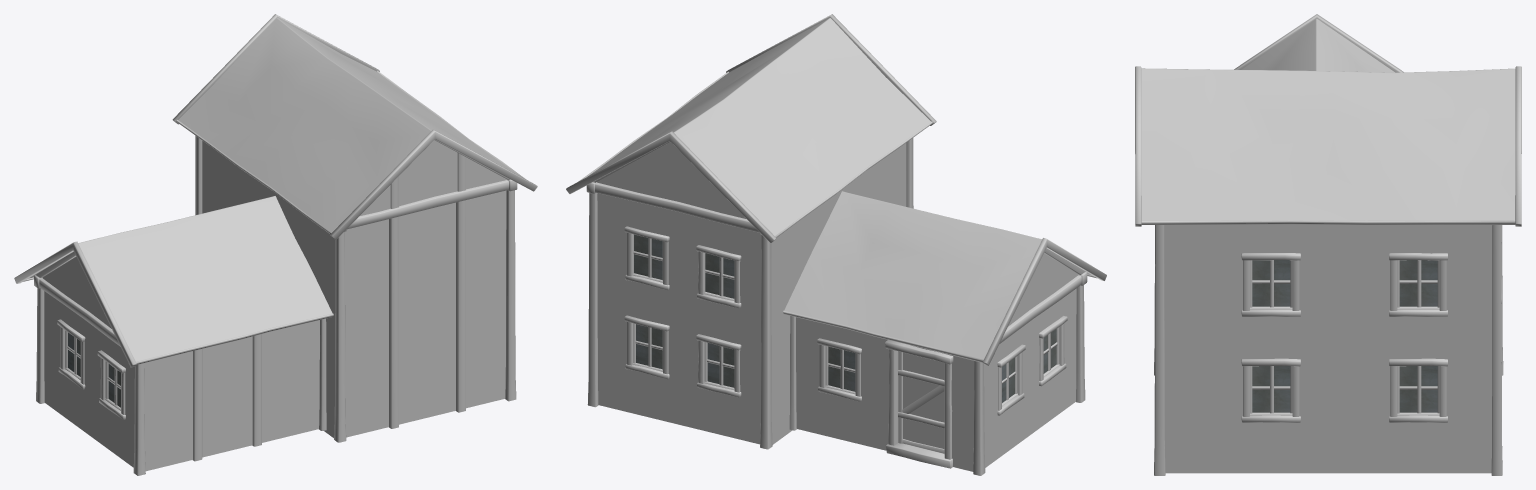
File: House_9.FBX
3 renders of one model, left to right at view 1: azimuth 30°, elevation 25°; view 2: azimuth 150°, elevation 25°; view 3: azimuth 270°, elevation 25°, orthographic. The views are drawn at different scales.
Visible parts, largest first — view 1: Mesh; view 2: Mesh; view 3: Mesh.
Boxes of the visible parts, bbox=[...] form: Mesh: bbox=[14, 14, 537, 475]; Mesh: bbox=[566, 14, 1106, 475]; Mesh: bbox=[1135, 14, 1521, 475].
Size of the model in its own units: 969 by 691 by 711.
